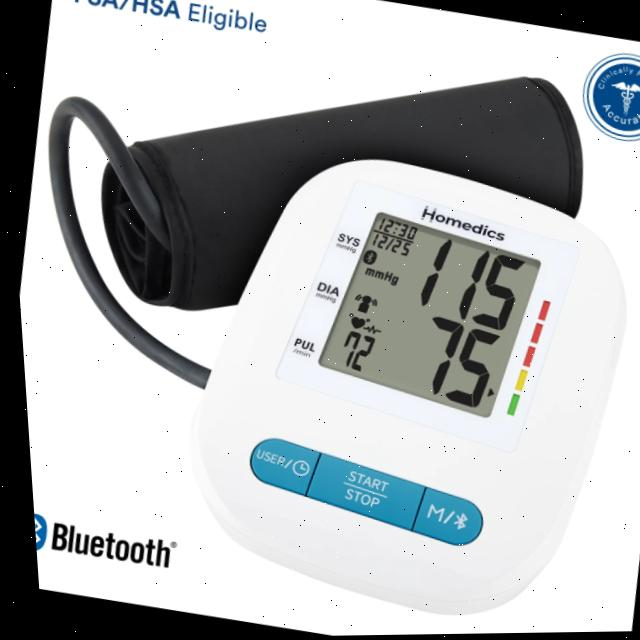dia: (388, 304, 505, 422)
pul: (310, 314, 385, 388)
ssd: (309, 202, 537, 424)
sys: (398, 223, 533, 339)
